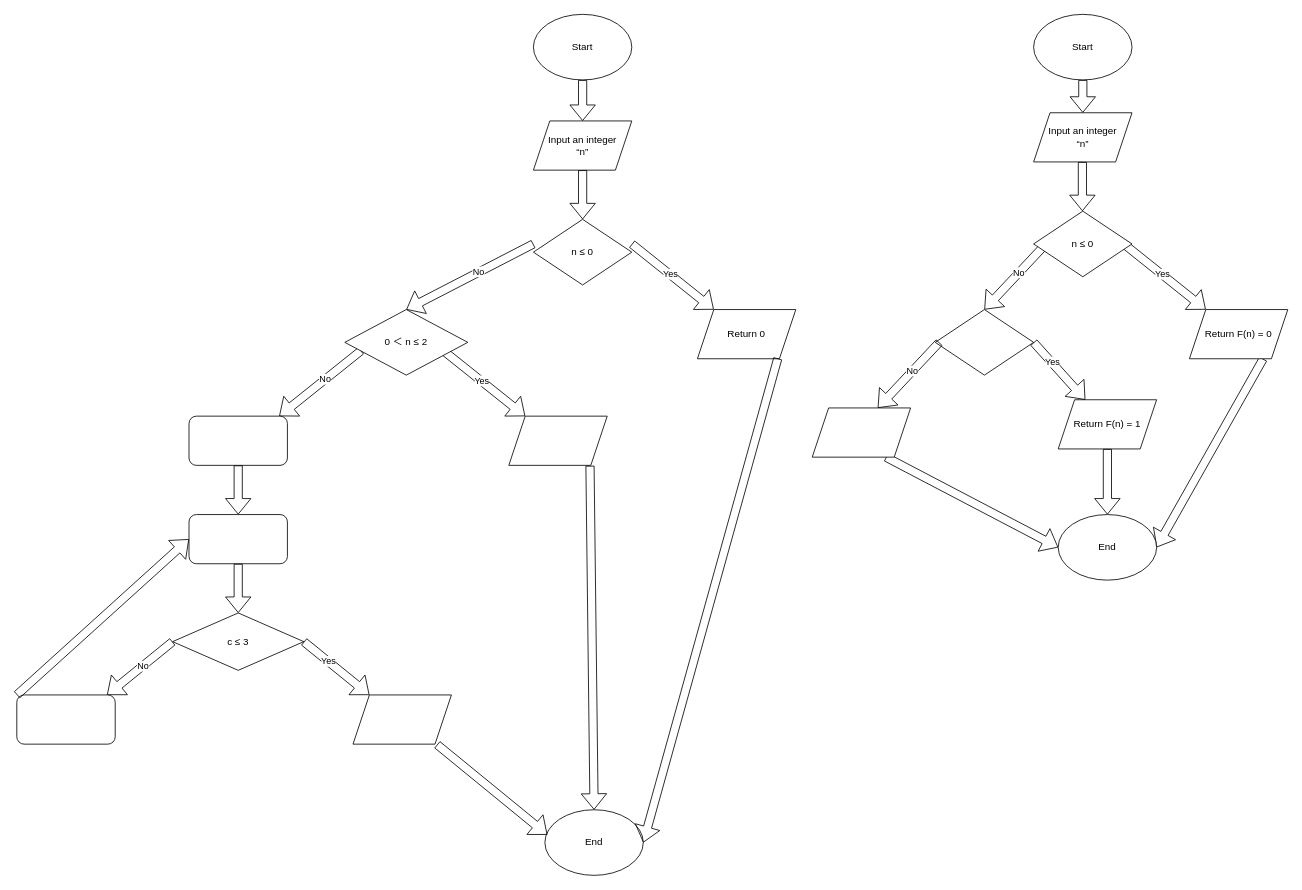
This 1302x890 diagram has some shape labels left out. Here are the shapes that lost their labels. From the top down, the centre of each, then its label:
point 984,342: n = 1
point 237,440: Initialize a = 1, b = 1
point 557,440: Return 1
point 861,432: Return F(n-1)+F(n-2)
point 237,539: c = a + b
point 65,719: a = b b = c n = n - 1
point 401,719: Return c
